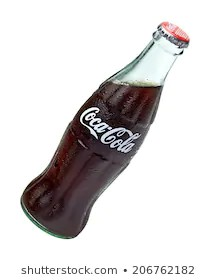coke-glass-bottle: (18, 10, 195, 245)
